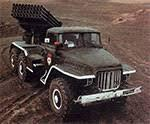MIL_SAM_TEL: (11, 2, 137, 117)
